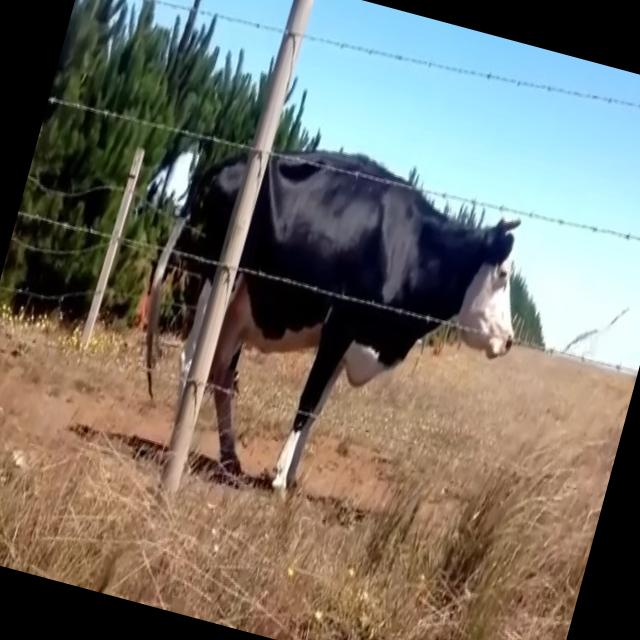cow: (209, 154, 518, 491), (180, 160, 246, 379)
